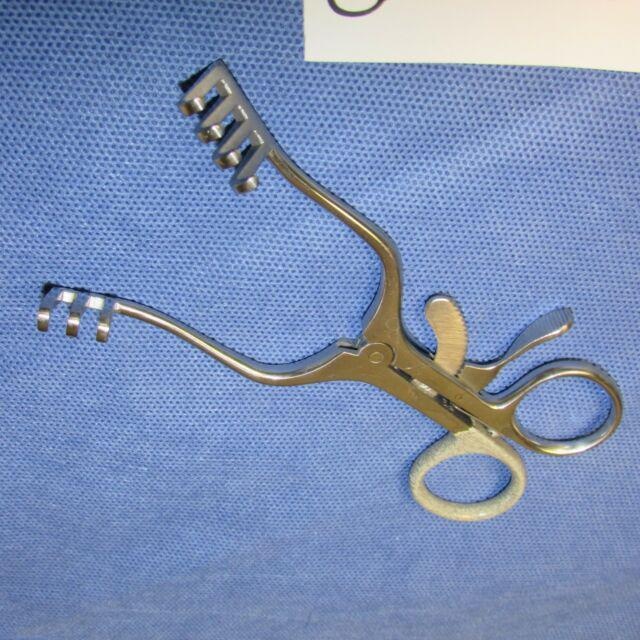Weitlaner: (32, 54, 627, 525)
